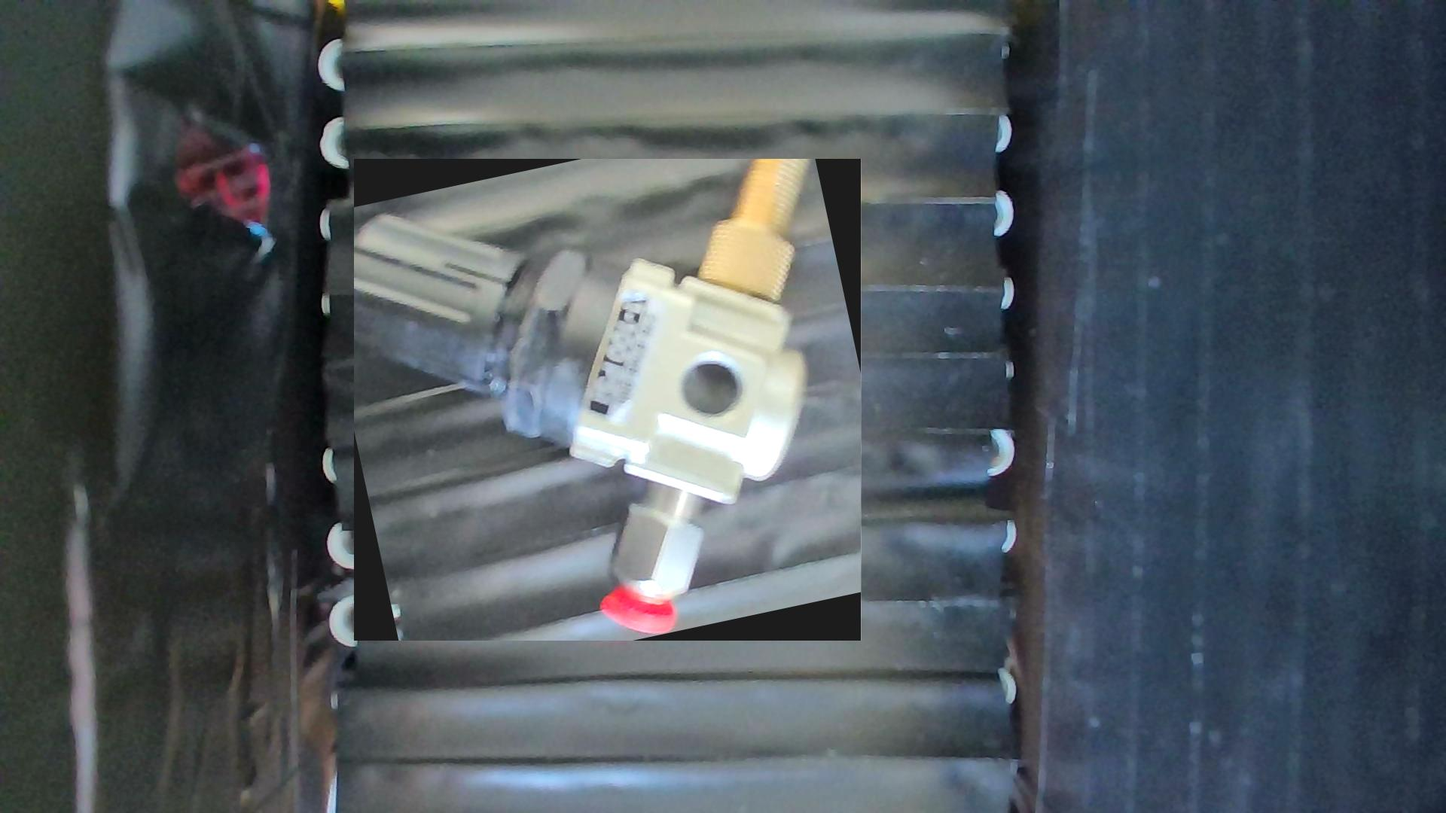regulator: (355, 159, 862, 641)
